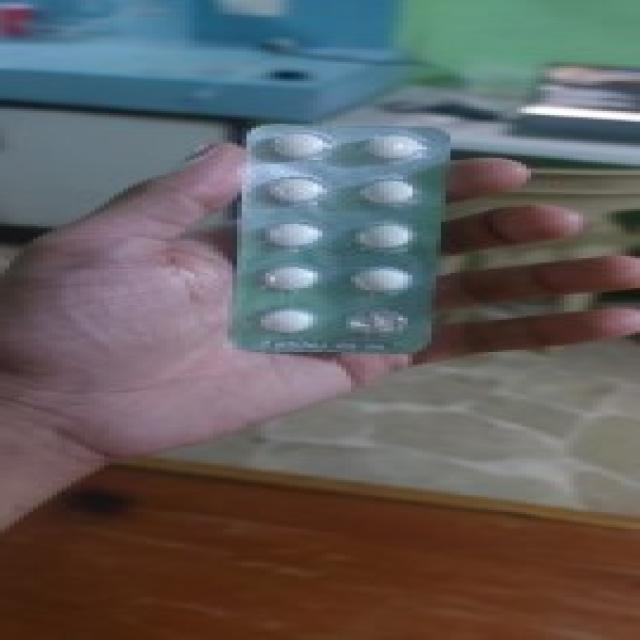Cacat: (238, 122, 446, 355)
Kemasan: (335, 305, 417, 343)
